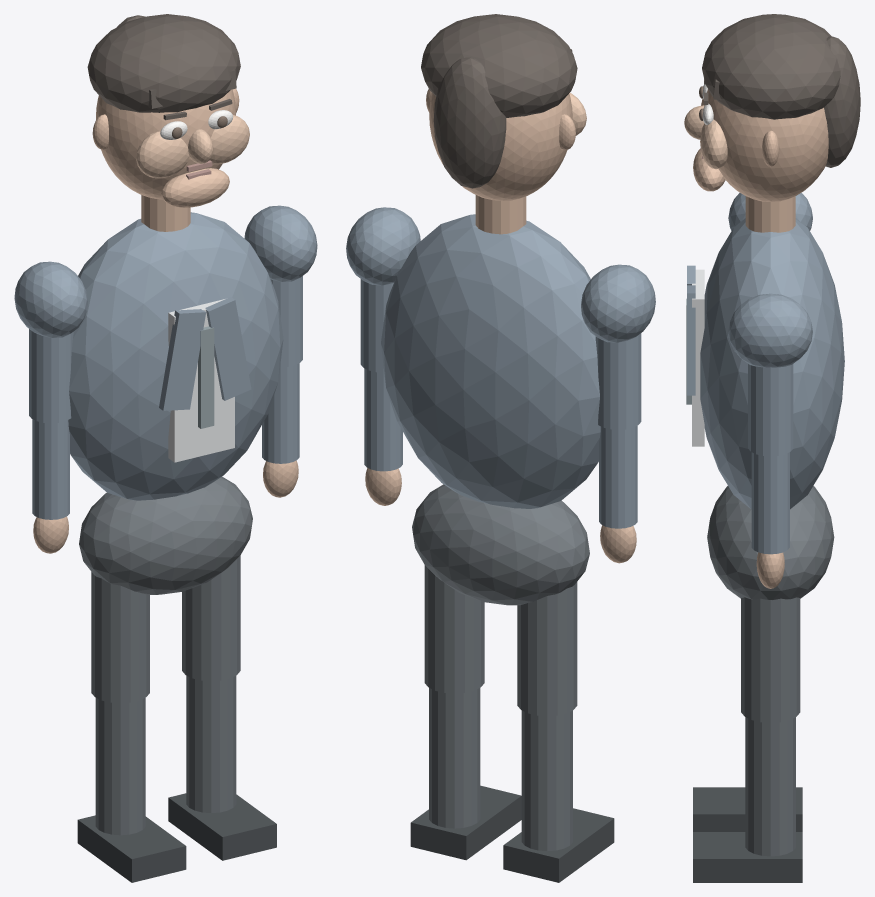
Rendered from jordan.glb.
3 renders of one model, left to right at view 1: azimuth 30°, elevation 25°; view 2: azimuth 150°, elevation 25°; view 3: azimuth 270°, elevation 25°, orthographic. The views are drawn at different scales.
Parts seen in each view (by area): view 1: torso_mesh, pelvis_mesh, hair_top, thigh_left, shin_left, shin_right, thigh_right, head_mesh, shoe_left, shoe_right, shoulder_l, shoulder_r (+15 smaller); view 2: torso_mesh, pelvis_mesh, hair_top, thigh_left, hair_back, shin_right, shin_left, thigh_right, head_mesh, shoulder_l, shoulder_r, shoe_right (+8 smaller); view 3: torso_mesh, hair_top, pelvis_mesh, head_mesh, thigh_right, shin_right, shoulder_r, shoe_right, upper_arm_right, forearm_right, hair_back, shoe_left (+9 smaller).
Boxes of the visible parts, x1,y1,x2,y2 form: torso_mesh: (68, 212, 283, 500); pelvis_mesh: (79, 476, 252, 594); hair_top: (87, 14, 240, 112); thigh_left: (91, 572, 149, 703); shin_left: (95, 697, 145, 835); shin_right: (186, 675, 236, 813); thigh_right: (182, 555, 240, 681); head_mesh: (96, 89, 235, 199); shoe_left: (77, 815, 186, 882); shoe_right: (168, 793, 276, 860); shoulder_l: (14, 261, 87, 337); shoulder_r: (244, 205, 317, 281); torso_mesh: (381, 214, 600, 508); pelvis_mesh: (412, 484, 589, 605); hair_top: (421, 14, 577, 117); thigh_left: (517, 582, 577, 716); hair_back: (433, 57, 506, 188); shin_right: (429, 688, 480, 828); shin_left: (521, 710, 572, 851); thigh_right: (424, 565, 484, 693); head_mesh: (429, 93, 572, 200); shoulder_l: (581, 264, 655, 342); shoulder_r: (346, 207, 420, 285); shoe_right: (410, 785, 521, 860); torso_mesh: (700, 218, 844, 509); hair_top: (702, 14, 840, 119); pelvis_mesh: (707, 486, 834, 599); head_mesh: (704, 89, 828, 201); thigh_right: (741, 597, 800, 722); shin_right: (745, 717, 795, 856); shoulder_r: (728, 293, 812, 367); shoe_right: (693, 832, 802, 882); upper_arm_right: (748, 364, 793, 456); forearm_right: (751, 452, 789, 554); hair_back: (824, 36, 860, 167); shoe_left: (693, 787, 802, 831).
Size of the model in its own units: 0.96 by 2.57 by 0.5.
